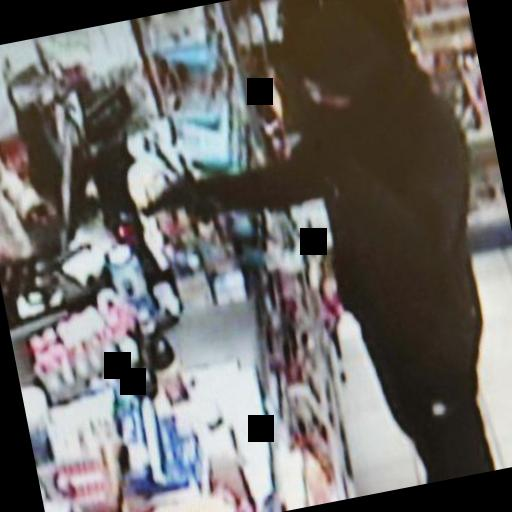Handgun: (131, 166, 207, 247)
